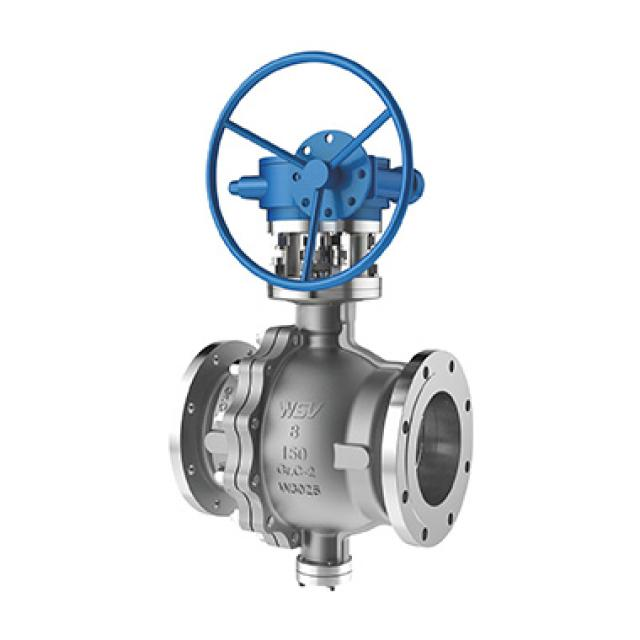Wheel Handle Valve Threaded: (156, 42, 449, 311)
